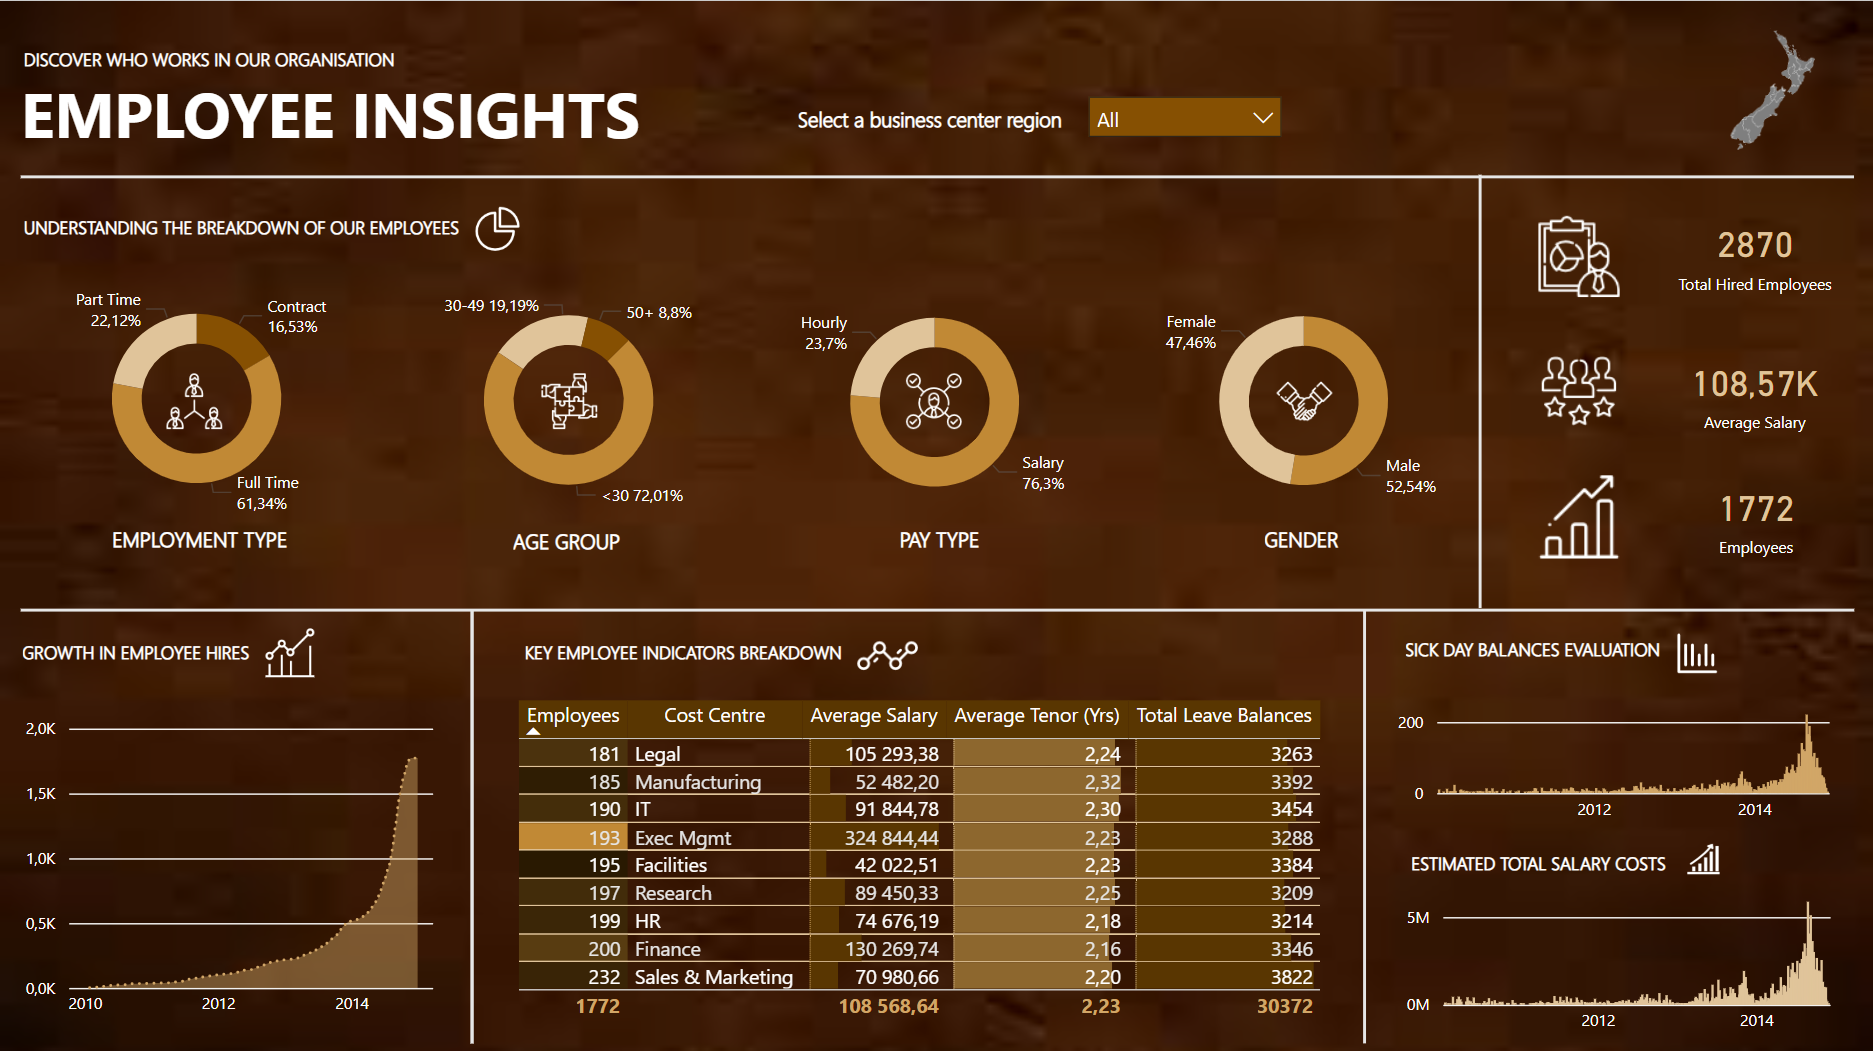

This screenshot's page, from the dashboard's own definition file:
{"tool":"powerbi","page":{"name":"Dashboard","canvas":[1280,720],"ordinal":0},"visuals":[{"type":"donutChart","fields":{"Y":["Key Measures.Employees"],"Category":["Employee_Data.Gender"]},"box":[784,184,208,176],"z":0},{"type":"donutChart","fields":{"Y":["Key Measures.Employees"],"Category":["Employee_Data.PayType"]},"box":[532.8,184.8,208,176],"z":1000},{"type":"donutChart","fields":{"Y":["Key Measures.Employees"],"Category":["Employee_Data.AgeGroup"]},"box":[284.9,182.4,203.8,179.2],"z":2000},{"type":"donutChart","fields":{"Y":["Key Measures.Employees"],"Series":["Employee_Data.Work Type"]},"box":[31.5,180.8,203.8,179.2],"z":3000},{"type":"textbox","box":[9.1,41.4,446.5,70.7],"z":4000},{"type":"slicer","fields":{"Values":["Employee_Data.Business Unit"]},"box":[732.1,55.3,151.1,48.4],"z":5000},{"type":"card","fields":{"Values":["Key Measures.Total Hired Employees"]},"box":[1135.5,133.6,120,76.4],"z":6000},{"type":"card","fields":{"Values":["Key Measures.Average Salary"]},"box":[1125.5,226.4,140,79.1],"z":7000},{"type":"card","fields":{"Values":["Key Measures.Employees"]},"box":[1140.9,318.2,109.1,67.3],"z":8000},{"type":"textbox","box":[11.6,24.2,305.3,33.2],"z":9000},{"type":"textbox","box":[538.9,65.8,202.1,37.9],"z":10000},{"type":"areaChart","fields":{"Category":["Dates.Date"],"Y":["Key Measures.Employees"]},"box":[12.1,481.3,289,218.7],"z":11000},{"type":"tableEx","fields":{"Values":["Key Measures.Employees","Employee_Data.Cost Centre","Key Measures.Average Salary","Key Measures.Average Tenor (Yrs)","Key Measures.Total Leave Balances"]},"box":[347.4,471.1,572.2,229.9],"z":12000},{"type":"columnChart","fields":{"Category":["Dates.Date"],"Y":["Key Measures.Total Sick Days"]},"box":[946.4,452.7,316.4,114.5],"z":13000},{"type":"columnChart","fields":{"Category":["Dates.Date"],"Y":["Key Measures.Total Salary Cost"]},"box":[952.7,598.2,310.9,113.6],"z":14000},{"type":"textbox","box":[11.3,139.2,351.5,33],"z":15000},{"type":"textbox","box":[72,352,144,32],"z":16000},{"type":"textbox","box":[344,352,111.6,32.2],"z":17000},{"type":"textbox","box":[608,352,80,32],"z":18000},{"type":"textbox","box":[856,352,72,32],"z":19000},{"type":"image","box":[163.7,422,68.1,44],"z":20000},{"type":"basicShape","box":[4.1,405.2,1269.1,18.6],"z":21000},{"type":"image","box":[1142.9,8.8,119.8,96.7],"z":22000},{"type":"image","box":[308.8,135.2,60.4,40.7],"z":23000},{"type":"image","box":[96,248,72,48],"z":24000},{"type":"image","box":[352,248,72,48],"z":25000},{"type":"image","box":[600,248,72,48],"z":26000},{"type":"image","box":[856,248,64,48],"z":27000},{"type":"basicShape","box":[4.4,110,1268.9,18.9],"z":28000},{"type":"basicShape","box":[987.2,108.8,42.4,315.2],"z":29000},{"type":"image","box":[1030.3,140.7,90.9,65.5],"z":30000},{"type":"image","box":[1032.1,318,87.3,67.3],"z":31000},{"type":"image","box":[1042.1,235.2,66.4,60.9],"z":32000},{"type":"textbox","box":[9.8,428.5,208.1,35.8],"z":33000},{"type":"textbox","box":[352,428.5,295.9,35.8],"z":34000},{"type":"image","box":[560.4,419.8,89,51.6],"z":35000},{"type":"basicShape","box":[304.9,404.9,34.1,315.4],"z":36000},{"type":"basicShape","box":[304.9,404.6,34.1,315.4],"z":37000},{"type":"basicShape","box":[912.2,404.9,34.1,315.4],"z":38000},{"type":"textbox","box":[956.2,571.9,239.1,35.9],"z":39000},{"type":"image","box":[1128,568,64,32],"z":40000},{"type":"textbox","box":[952.8,426,242.3,36.6],"z":41000},{"type":"image","box":[1120,424,72,40],"z":42000}]}

Visuals, with their boxes in screenshot pixels (x1, y1, x2, y2), scaled from the page's 1280x720 canvas onto the 1873x1051 screenshot:
donutChart - Key Measures.Employees x Employee_Data.Gender: l=1147, t=269, r=1452, b=526
donutChart - Key Measures.Employees x Employee_Data.PayType: l=780, t=270, r=1084, b=527
donutChart - Key Measures.Employees x Employee_Data.AgeGroup: l=417, t=266, r=715, b=528
donutChart - Key Measures.Employees x Employee_Data.Work Type: l=46, t=264, r=344, b=526
textbox: l=13, t=60, r=667, b=164
slicer - Employee_Data.Business Unit: l=1071, t=81, r=1292, b=151
card - Key Measures.Total Hired Employees: l=1662, t=195, r=1837, b=307
card - Key Measures.Average Salary: l=1647, t=330, r=1852, b=446
card - Key Measures.Employees: l=1669, t=464, r=1829, b=563
textbox: l=17, t=35, r=464, b=84
textbox: l=789, t=96, r=1084, b=151
areaChart - Dates.Date x Key Measures.Employees: l=18, t=703, r=441, b=1022
tableEx - Key Measures.Employees x Employee_Data.Cost Centre: l=508, t=688, r=1346, b=1023
columnChart - Dates.Date x Key Measures.Total Sick Days: l=1385, t=661, r=1848, b=828
columnChart - Dates.Date x Key Measures.Total Salary Cost: l=1394, t=873, r=1849, b=1039
textbox: l=17, t=203, r=531, b=251
textbox: l=105, t=514, r=316, b=561
textbox: l=503, t=514, r=667, b=561
textbox: l=890, t=514, r=1007, b=561
textbox: l=1253, t=514, r=1358, b=561
image: l=240, t=616, r=339, b=680
basicShape: l=6, t=591, r=1863, b=619
image: l=1672, t=13, r=1848, b=154
image: l=452, t=197, r=540, b=257
image: l=140, t=362, r=246, b=432
image: l=515, t=362, r=620, b=432
image: l=878, t=362, r=983, b=432
image: l=1253, t=362, r=1346, b=432
basicShape: l=6, t=161, r=1863, b=188
basicShape: l=1445, t=159, r=1507, b=619
image: l=1508, t=205, r=1641, b=301
image: l=1510, t=464, r=1638, b=562
image: l=1525, t=343, r=1622, b=432
textbox: l=14, t=625, r=319, b=678
textbox: l=515, t=625, r=948, b=678
image: l=820, t=613, r=950, b=688
basicShape: l=446, t=591, r=496, b=1050
basicShape: l=446, t=591, r=496, b=1050
basicShape: l=1335, t=591, r=1385, b=1050
textbox: l=1399, t=835, r=1749, b=887
image: l=1651, t=829, r=1744, b=876
textbox: l=1394, t=622, r=1749, b=675
image: l=1639, t=619, r=1744, b=677
